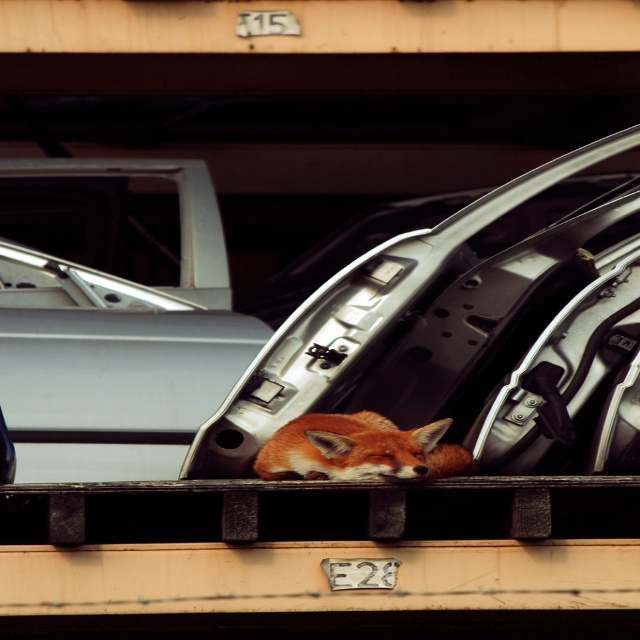Fox: (246, 410, 474, 481)
